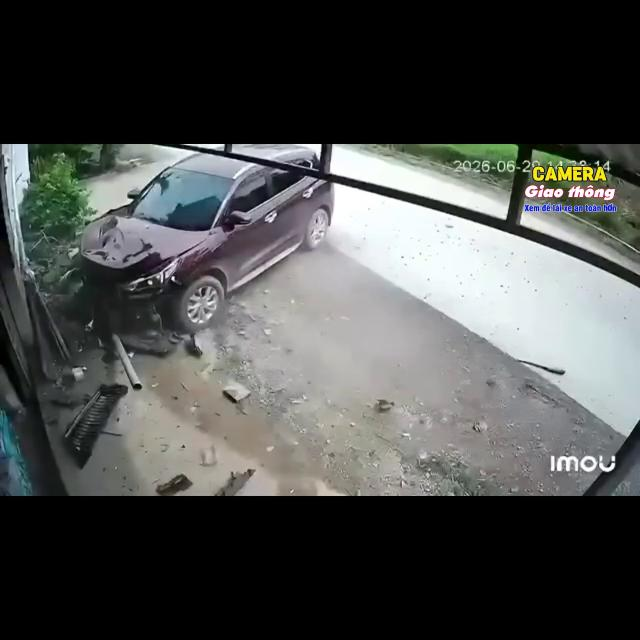car: (80, 154, 333, 333)
